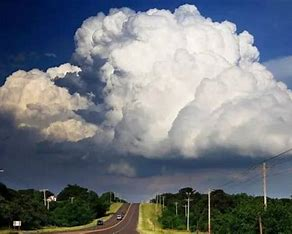Cumulus: (70, 6, 292, 171), (4, 54, 107, 181)
